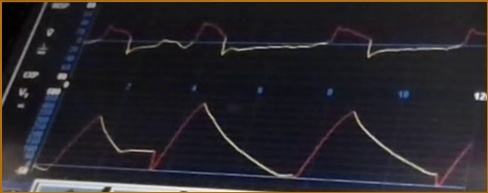Ineffective_effort Flow: (87, 17, 487, 75)
Ineffective_effort Volume: (41, 102, 473, 188)
